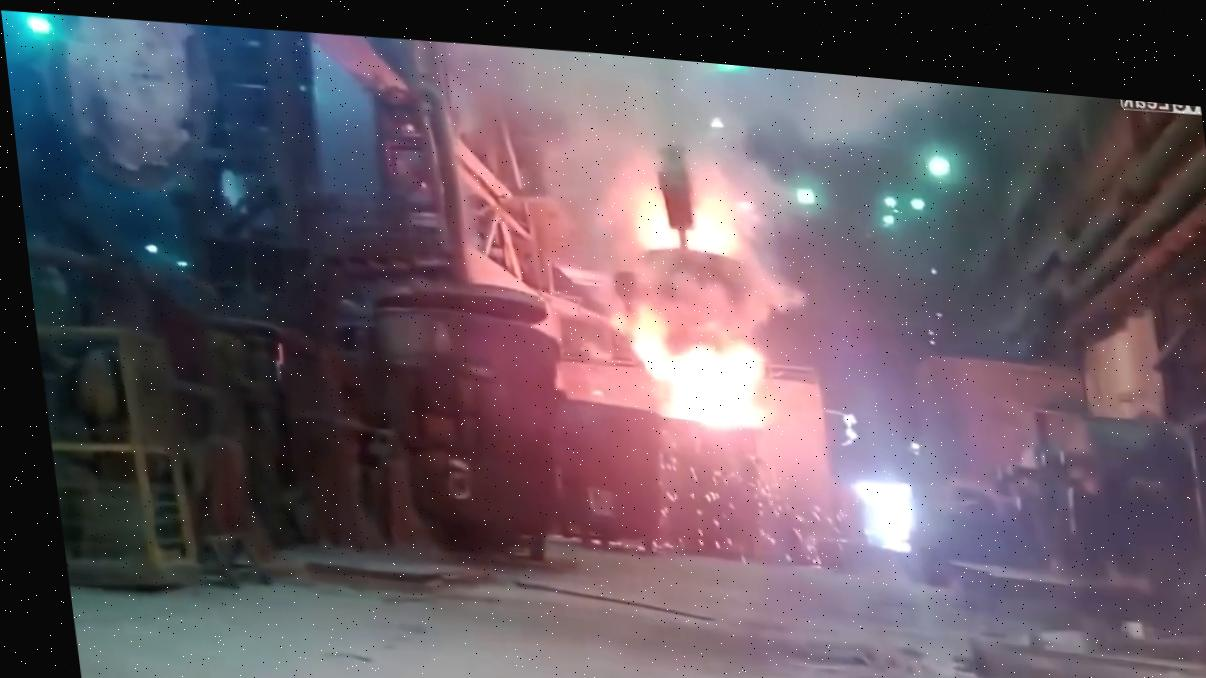fire: (518, 68, 907, 481)
